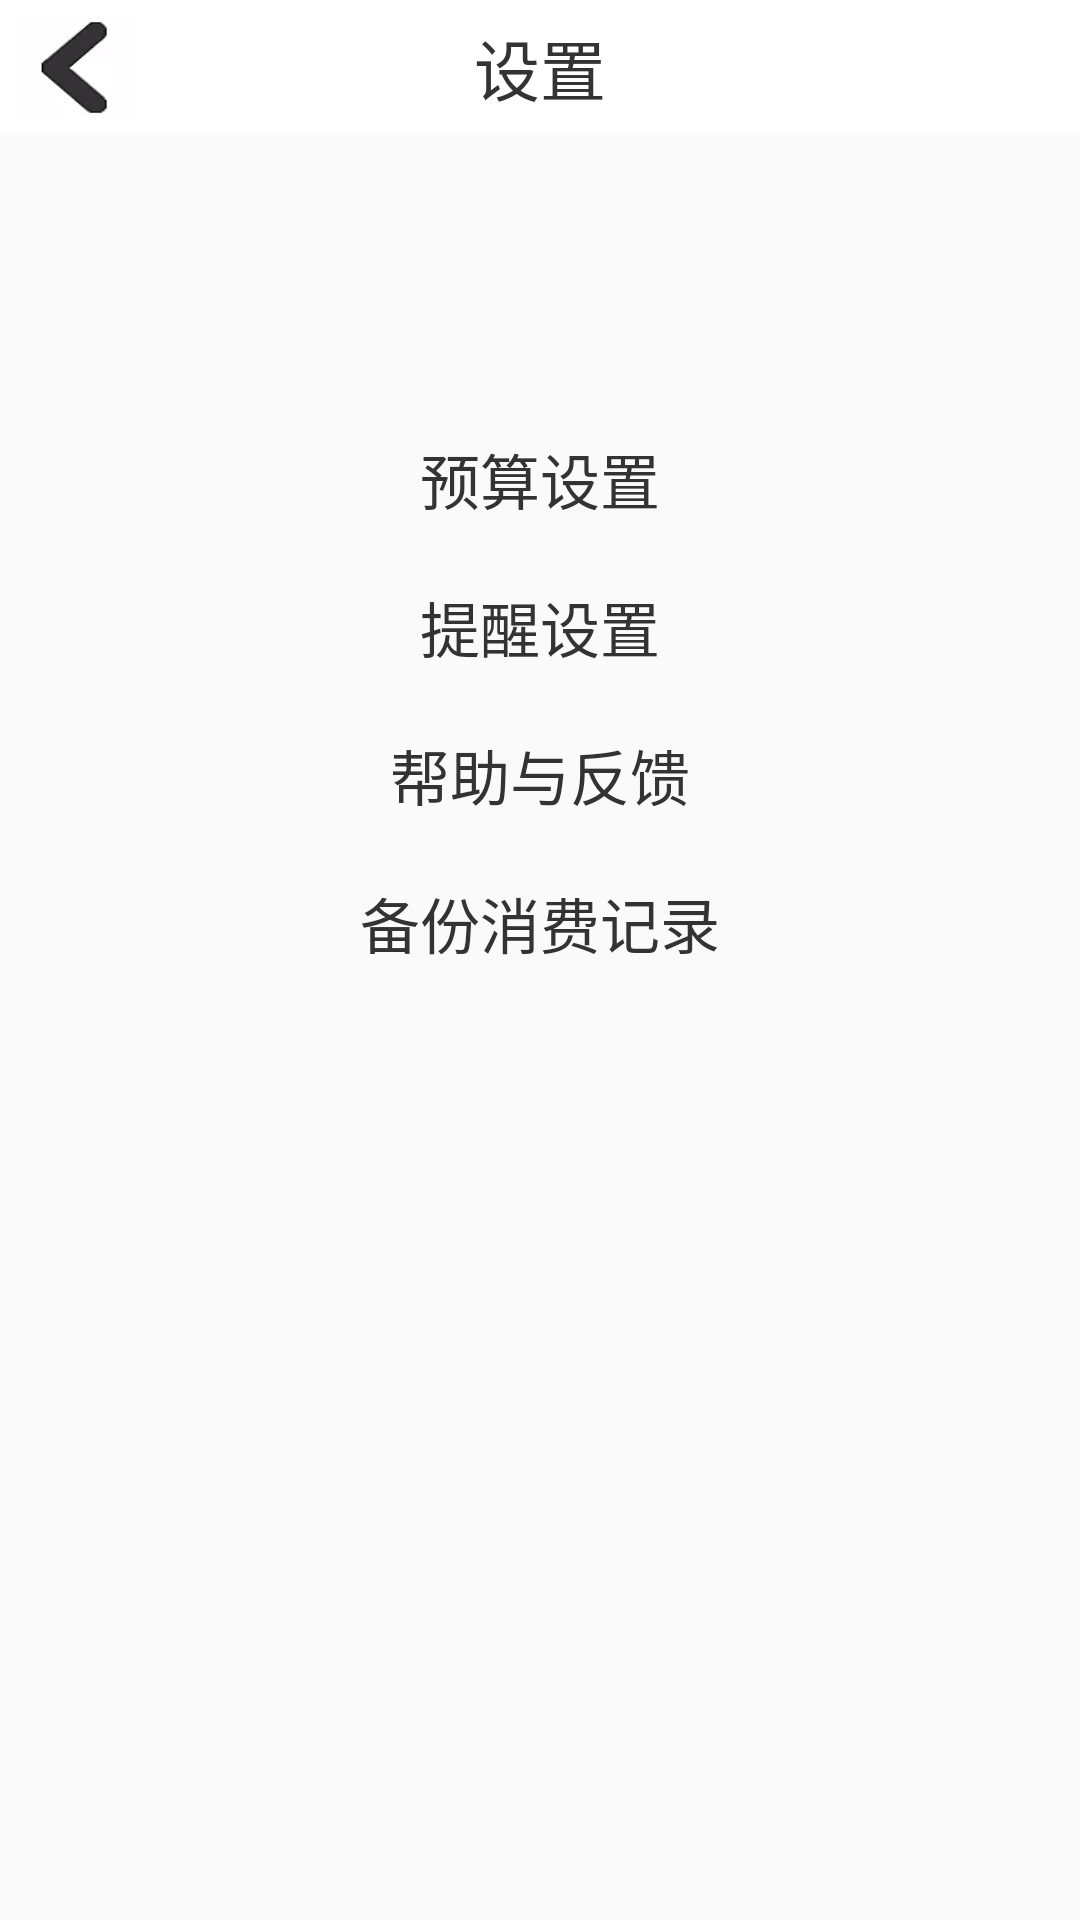

Icons on this 1080px×1920px Android screen, each with its box as BBox(x1, y1, x2, y2):
back: BBox(41, 22, 107, 113)
